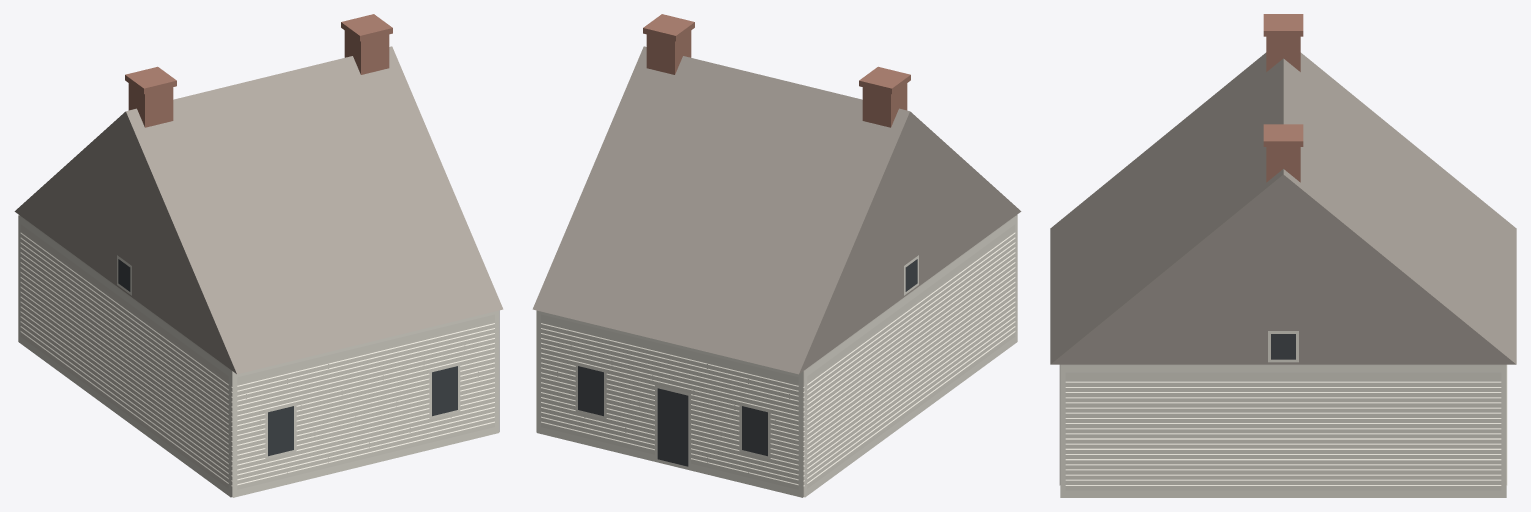
The model's file is recon_1835_north_h1_007__inferred_1835.glb.
3 views of the same model, side by side, from view 1: azimuth 30°, elevation 25°; view 2: azimuth 150°, elevation 25°; view 3: azimuth 270°, elevation 25° (orthographic). The views are drawn at different scales.
Parts seen in each view (by area): view 1: recon_1835_north_h1_007__inferred_1835; view 2: recon_1835_north_h1_007__inferred_1835; view 3: recon_1835_north_h1_007__inferred_1835.
Boxes of the visible parts, box(x1,y1,x2,y2) form: recon_1835_north_h1_007__inferred_1835: box(14, 14, 503, 497); recon_1835_north_h1_007__inferred_1835: box(532, 14, 1021, 497); recon_1835_north_h1_007__inferred_1835: box(1050, 14, 1516, 497).
Size of the model in its own units: 8.02 by 9.55 by 11.47.
